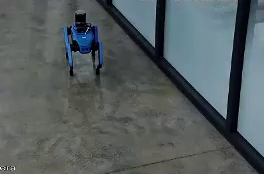robot dog: (57, 8, 115, 83)
